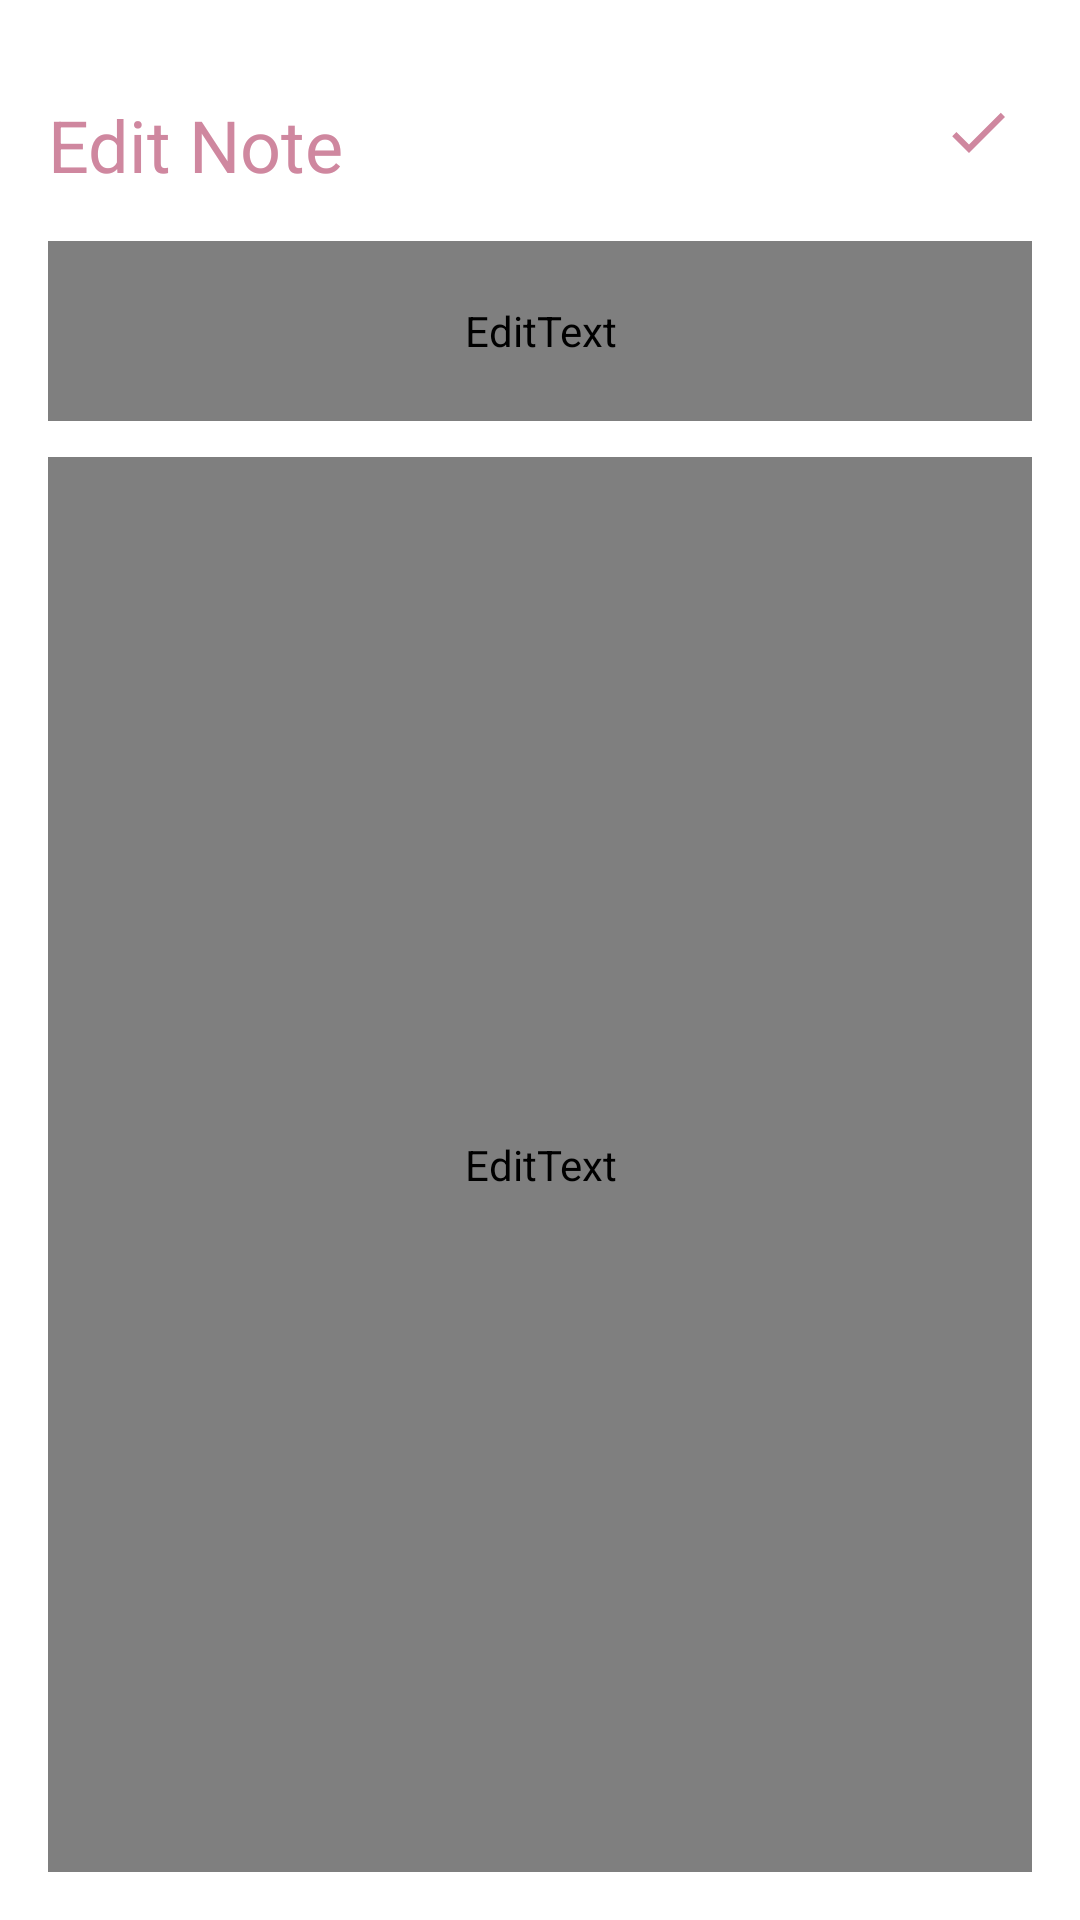

Where to tap for icons on this 1080*1920 app screen, as [x,y]:
done: [978,133]
